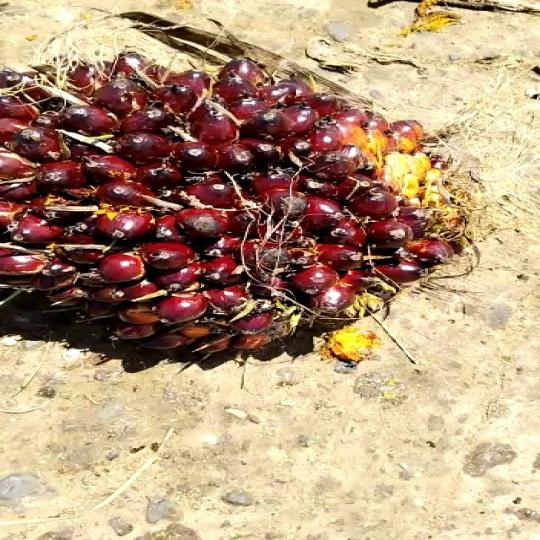kurang masak: (0, 42, 479, 376)
